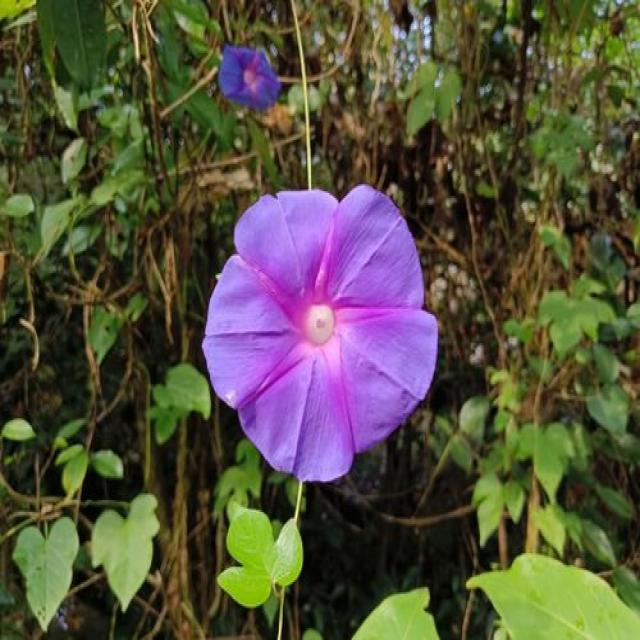ipomoea: (198, 181, 442, 488), (214, 39, 285, 118)
